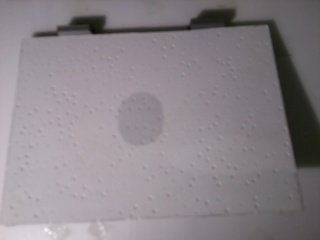Water_detected: (119, 94, 165, 142)
